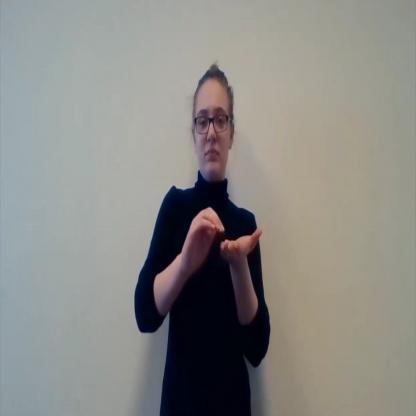ExcuseMe: (134, 58, 272, 403)
